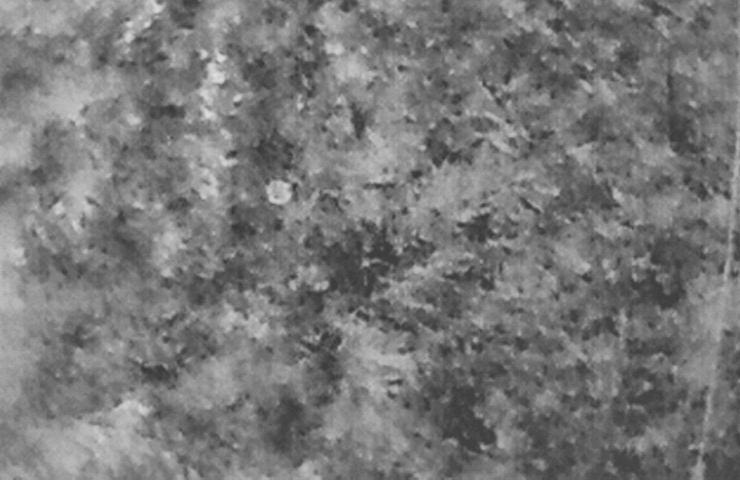landmines: (263, 176, 299, 211)
